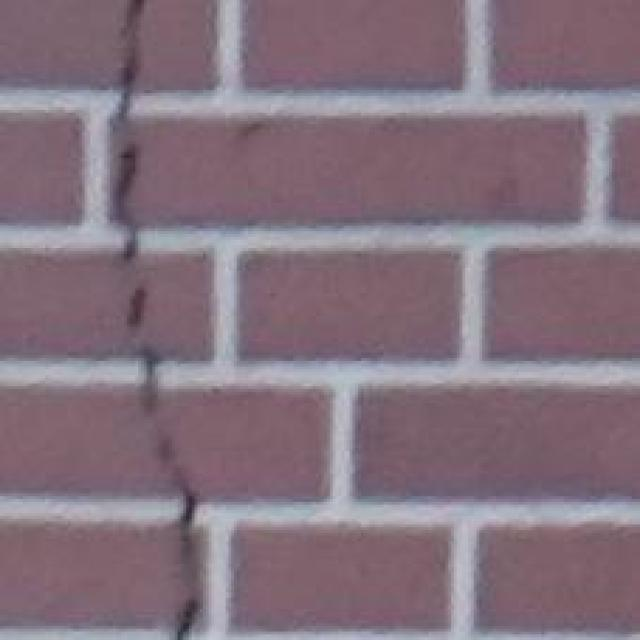Crack: (19, 0, 366, 640)
